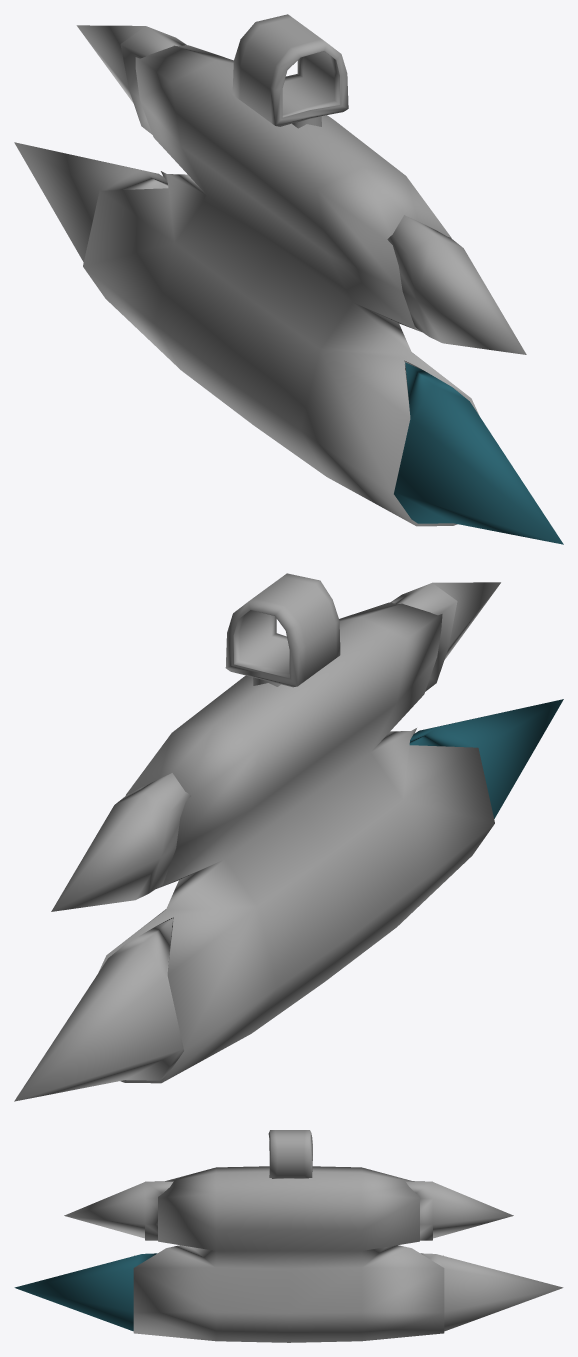
The model's file is zipper_print_blue.gltf.
3 views of the same model, one above another, from view 1: azimuth 30°, elevation 25°; view 2: azimuth 150°, elevation 25°; view 3: azimuth 270°, elevation 25° (orthographic). The views are drawn at different scales.
Parts seen in each view (by area): view 1: 큐브.004; view 2: 큐브.004; view 3: 큐브.004.
Part boxes in pixels (x1,y1,x2,y2): 큐브.004: (14, 14, 563, 544); 큐브.004: (14, 573, 563, 1101); 큐브.004: (14, 1130, 563, 1342).
Size of the model in its own units: 1.04 by 2.86 by 7.31.
